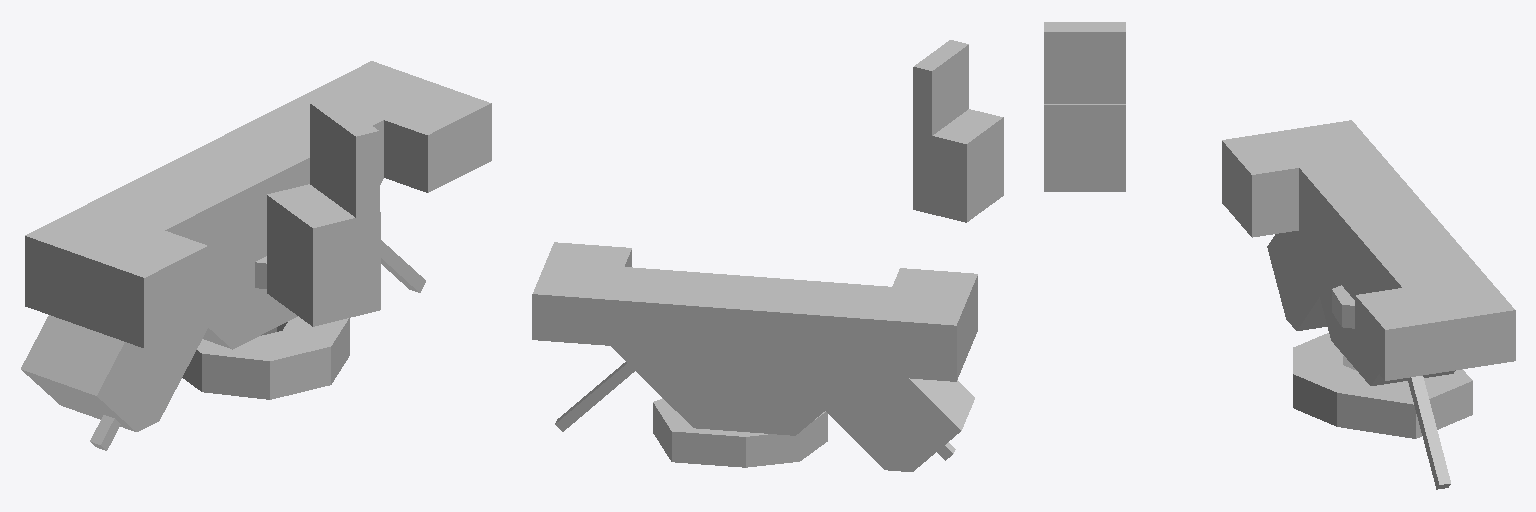
URDF robot description (s1):
<?xml version="1.0" encoding="utf-8"?>
<robot name="s1">
  <link name="gripper_base">
    <visual>
      <geometry>
        <mesh filename="package://s1/meshes/visual/L0_visual_0.stl" scale="0.001 0.001 0.001"/>
      </geometry>
      <material name="Material">
        <color rgba="0.8 0.8 0.8 1.0"/>
      </material>
    </visual>
    <visual>
      <geometry>
        <mesh filename="package://s1/meshes/visual/L0_visual_1.stl" scale="0.001 0.001 0.001"/>
      </geometry>
      <material name="Material">
        <color rgba="0.8 0.8 0.8 1.0"/>
      </material>
    </visual>
    <visual>
      <geometry>
        <mesh filename="package://s1/meshes/visual/L0_visual_2.stl" scale="0.001 0.001 0.001"/>
      </geometry>
      <material name="Material">
        <color rgba="0.8 0.8 0.8 1.0"/>
      </material>
    </visual>
    <visual>
      <geometry>
        <mesh filename="package://s1/meshes/visual/L0_visual_3.stl" scale="0.001 0.001 0.001"/>
      </geometry>
      <material name="Material">
        <color rgba="0.8 0.8 0.8 1.0"/>
      </material>
    </visual>
    <visual>
      <geometry>
        <mesh filename="package://s1/meshes/visual/L0_visual_4.stl" scale="0.001 0.001 0.001"/>
      </geometry>
      <material name="Material">
        <color rgba="0.8 0.8 0.8 1.0"/>
      </material>
    </visual>
    <visual>
      <geometry>
        <mesh filename="package://s1/meshes/visual/L0_visual_5.stl" scale="0.001 0.001 0.001"/>
      </geometry>
      <material name="Material">
        <color rgba="0.8 0.8 0.8 1.0"/>
      </material>
    </visual>
    <visual>
      <geometry>
        <mesh filename="package://s1/meshes/visual/L0_visual_6.stl" scale="0.001 0.001 0.001"/>
      </geometry>
      <material name="Material">
        <color rgba="0.8 0.8 0.8 1.0"/>
      </material>
    </visual>
    <visual>
      <geometry>
        <mesh filename="package://s1/meshes/visual/L0_visual_7.stl" scale="0.001 0.001 0.001"/>
      </geometry>
      <material name="Material">
        <color rgba="0.8 0.8 0.8 1.0"/>
      </material>
    </visual>
    <visual>
      <geometry>
        <mesh filename="package://s1/meshes/visual/L0_visual_8.stl" scale="0.001 0.001 0.001"/>
      </geometry>
      <material name="Material">
        <color rgba="0.8 0.8 0.8 1.0"/>
      </material>
    </visual>
    <collision>
      <geometry>
        <mesh filename="package://s1/meshes/collision/L0_collision_0.stl" scale="0.001 0.001 0.001"/>
      </geometry>
    </collision>
    <collision>
      <geometry>
        <mesh filename="package://s1/meshes/collision/L0_collision_1.stl" scale="0.001 0.001 0.001"/>
      </geometry>
    </collision>
    <collision>
      <geometry>
        <mesh filename="package://s1/meshes/collision/L0_collision_2.stl" scale="0.001 0.001 0.001"/>
      </geometry>
    </collision>
    <collision>
      <geometry>
        <mesh filename="package://s1/meshes/collision/L0_collision_3.stl" scale="0.001 0.001 0.001"/>
      </geometry>
    </collision>
    <collision>
      <geometry>
        <mesh filename="package://s1/meshes/collision/L0_collision_4.stl" scale="0.001 0.001 0.001"/>
      </geometry>
    </collision>
    <collision>
      <geometry>
        <mesh filename="package://s1/meshes/collision/L0_collision_5.stl" scale="0.001 0.001 0.001"/>
      </geometry>
    </collision>
    <collision>
      <geometry>
        <mesh filename="package://s1/meshes/collision/L0_collision_6.stl" scale="0.001 0.001 0.001"/>
      </geometry>
    </collision>
    <collision>
      <geometry>
        <mesh filename="package://s1/meshes/collision/L0_collision_7.stl" scale="0.001 0.001 0.001"/>
      </geometry>
    </collision>
    <collision>
      <geometry>
        <mesh filename="package://s1/meshes/collision/L0_collision_8.stl" scale="0.001 0.001 0.001"/>
      </geometry>
    </collision>
  </link>
  <link name="gripper_jaw_l">
    <visual>
      <geometry>
        <mesh filename="package://s1/meshes/visual/L1_visual_0.stl" scale="0.001 0.001 0.001"/>
      </geometry>
      <material name="Material">
        <color rgba="0.8 0.8 0.8 1.0"/>
      </material>
    </visual>
    <visual>
      <geometry>
        <mesh filename="package://s1/meshes/visual/L1_visual_1.stl" scale="0.001 0.001 0.001"/>
      </geometry>
      <material name="Material">
        <color rgba="0.8 0.8 0.8 1.0"/>
      </material>
    </visual>
    <collision>
      <geometry>
        <mesh filename="package://s1/meshes/collision/L1_collision_0.stl" scale="0.001 0.001 0.001"/>
      </geometry>
    </collision>
    <collision>
      <geometry>
        <mesh filename="package://s1/meshes/collision/L1_collision_1.stl" scale="0.001 0.001 0.001"/>
      </geometry>
    </collision>
  </link>
  <link name="gripper_jaw_r">
    <visual>
      <geometry>
        <mesh filename="package://s1/meshes/visual/L2_visual_0.stl" scale="0.001 0.001 0.001"/>
      </geometry>
      <material name="Material">
        <color rgba="0.8 0.8 0.8 1.0"/>
      </material>
    </visual>
    <visual>
      <geometry>
        <mesh filename="package://s1/meshes/visual/L2_visual_1.stl" scale="0.001 0.001 0.001"/>
      </geometry>
      <material name="Material">
        <color rgba="0.8 0.8 0.8 1.0"/>
      </material>
    </visual>
    <collision>
      <geometry>
        <mesh filename="package://s1/meshes/collision/L2_collision_0.stl" scale="0.001 0.001 0.001"/>
      </geometry>
    </collision>
    <collision>
      <geometry>
        <mesh filename="package://s1/meshes/collision/L2_collision_1.stl" scale="0.001 0.001 0.001"/>
      </geometry>
    </collision>
  </link>
  <link name="screwdriver_screw">
    <visual>
      <geometry>
        <mesh filename="package://s1/meshes/visual/L3_visual_0.stl" scale="0.001 0.001 0.001"/>
      </geometry>
      <material name="Material">
        <color rgba="0.8 0.8 0.8 1.0"/>
      </material>
    </visual>
    <collision>
      <geometry>
        <mesh filename="package://s1/meshes/collision/L3_collision_0.stl" scale="0.001 0.001 0.001"/>
      </geometry>
    </collision>
  </link>
  <joint name="joint_gripper_jaw_l" type="prismatic">
    <parent link="gripper_base"/>
    <child link="gripper_jaw_l"/>
    <axis xyz="-0.6644628767006494 -0.2418451684168724 -0.707106781186627"/>
    <limit effort="0.0" upper="0.047" velocity="0.0"/>
    <origin rpy="0.0 0.0 0.0" xyz="0.0 0.0 0.0"/>
  </joint>
  <joint name="joint_gripper_jaw_r" type="prismatic">
    <parent link="gripper_base"/>
    <child link="gripper_jaw_r"/>
    <axis xyz="0.6644628767011193 0.24184516841704337 -0.7071067811861269"/>
    <limit effort="0.0" upper="0.047" velocity="0.0"/>
    <origin rpy="0.0 0.0 0.0" xyz="0.0 0.0 0.0"/>
  </joint>
  <joint name="screwdriver_screw" type="revolute">
    <parent link="gripper_base"/>
    <child link="screwdriver_screw"/>
    <axis xyz="-7.25013948714e-14 -3.47598351414e-13 1.0"/>
    <limit effort="0.0" upper="47.0" velocity="0.0"/>
    <origin rpy="0.0 0.0 0.0" xyz="0.0 0.0 0.0"/>
  </joint>
</robot>

--- What the picture shows (computed from the rendered views, not written in the file) ---
The picture shows the robot from 3 angles, left to right: view 1: azimuth 30°, elevation 25°; view 2: azimuth 150°, elevation 25°; view 3: azimuth 270°, elevation 25°; orthographic projection.
Robot: s1 — 4 links, 3 joints (1 revolute, 2 prismatic); root link gripper_base; default pose: all joints at 0.
Links seen in each view (by area): view 1: gripper_base, gripper_jaw_r, gripper_jaw_l; view 2: gripper_base, gripper_jaw_r, gripper_jaw_l; view 3: gripper_base, gripper_jaw_r, gripper_jaw_l.
Link boxes in pixels (bbox=[...]): gripper_base: bbox=[25, 61, 491, 450]; gripper_jaw_r: bbox=[267, 97, 380, 326]; gripper_jaw_l: bbox=[21, 315, 207, 431]; gripper_base: bbox=[532, 242, 977, 467]; gripper_jaw_r: bbox=[913, 40, 1003, 222]; gripper_jaw_l: bbox=[826, 367, 974, 471]; gripper_base: bbox=[1222, 120, 1515, 489]; gripper_jaw_r: bbox=[1044, 22, 1125, 191]; gripper_jaw_l: bbox=[1267, 220, 1326, 330].
Size in the robot's own frame: 0.3991 by 0.3742 by 0.3015 metres.
10 mesh visuals loaded from 14 distinct referenced files (10 binary STL); not drawn: 4 (reference not matched to a file when rendering).